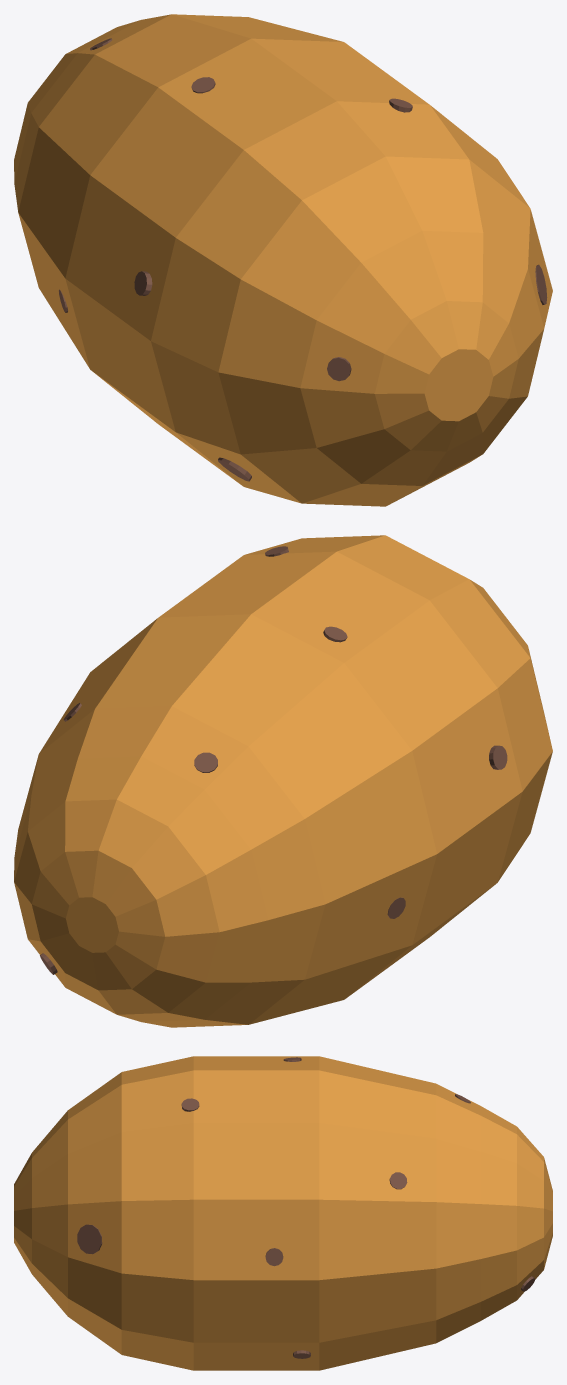
File: potato-harvest.glb
3 views of the same model, one above another, from view 1: azimuth 30°, elevation 25°; view 2: azimuth 150°, elevation 25°; view 3: azimuth 270°, elevation 25° (orthographic). The views are drawn at different scales.
Visible parts, largest first — view 1: model; view 2: model; view 3: model.
Part boxes in pixels (x1,y1,x2,y2): model: (14,14,552,506); model: (14,535,552,1027); model: (14,1056,552,1370).
Size of the model in its own units: 0.5857 by 0.5857 by 1.
